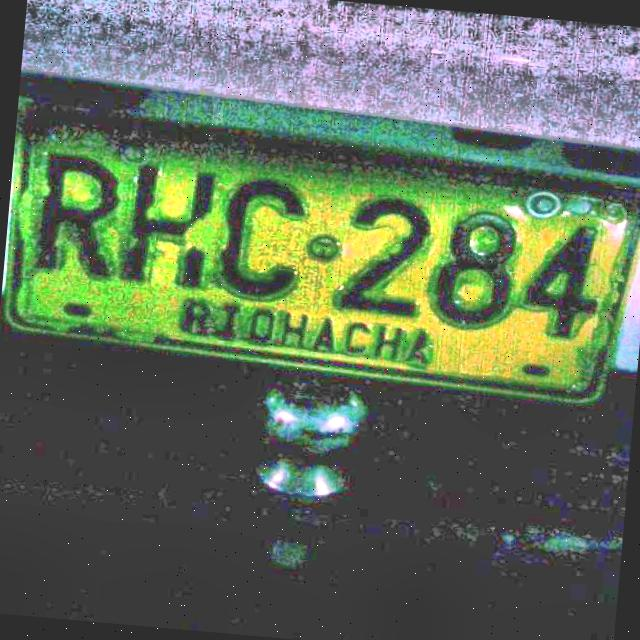2: (327, 187, 436, 325)
4: (511, 220, 613, 351)
8: (420, 202, 528, 339)
C: (209, 173, 311, 305)
H: (115, 157, 221, 295)
R: (26, 147, 128, 286)
